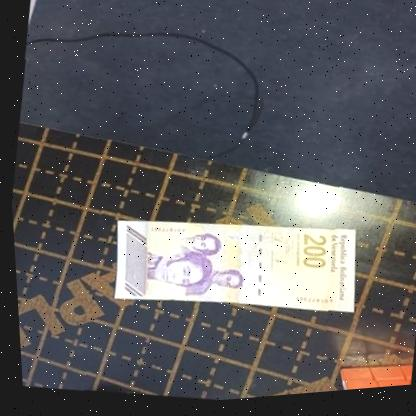two_hundred-front-vef: (101, 197, 363, 338)
